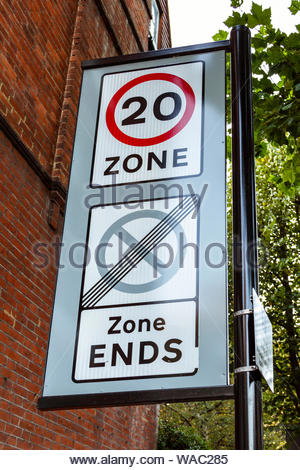speed_limit_20: (106, 72, 198, 146)
